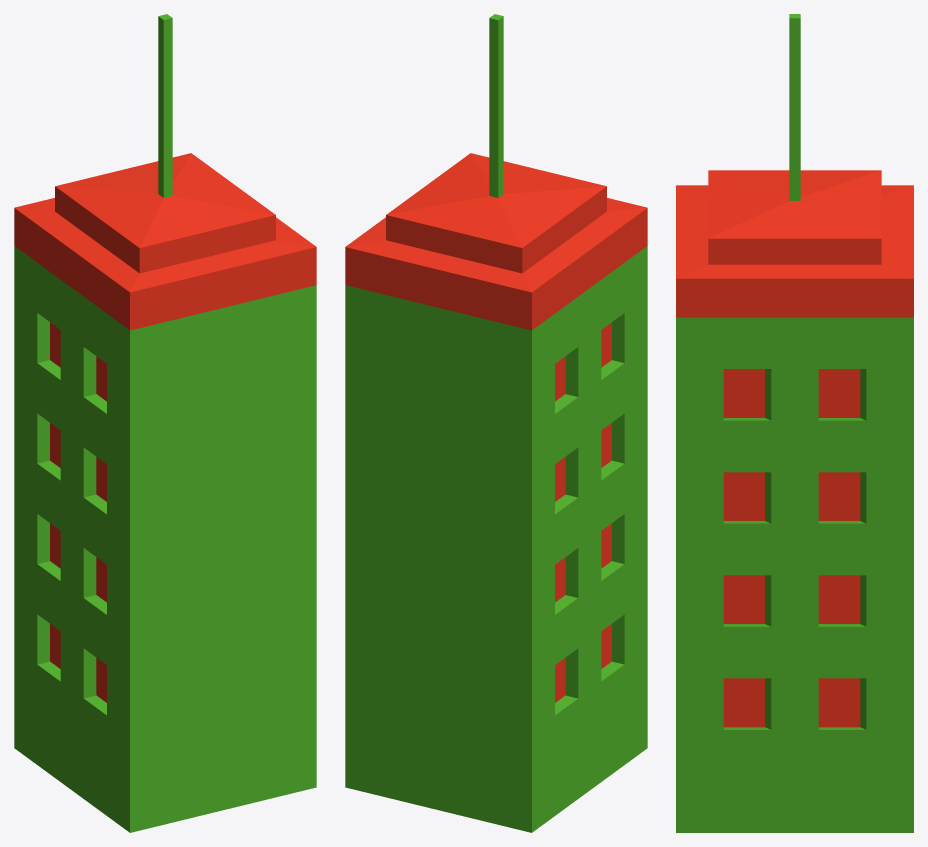
File: Building7.fbx
The picture shows the model from 3 angles, left to right: view 1: azimuth 30°, elevation 25°; view 2: azimuth 150°, elevation 25°; view 3: azimuth 270°, elevation 25°; orthographic projection. The views are drawn at different scales.
Visible parts, largest first — view 1: Cube; view 2: Cube; view 3: Cube.
Boxes of the visible parts, left/top/right/bottom form: Cube: left=14, top=14, right=316, bottom=832; Cube: left=345, top=14, right=647, bottom=832; Cube: left=676, top=14, right=913, bottom=832.
Bounding box in the file's own units: 200 × 769 × 215.
